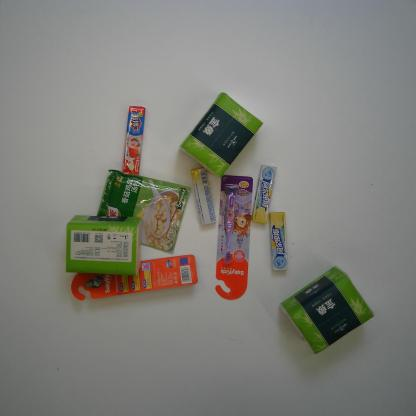Candy: (122, 106, 146, 176), (250, 164, 277, 224), (190, 166, 216, 226), (268, 210, 288, 272)
Personal Hygiene: (70, 254, 198, 302), (214, 173, 254, 301)
Seasoner: (96, 168, 192, 254)
Tissue: (279, 264, 375, 356), (179, 92, 264, 179), (65, 214, 143, 276)
